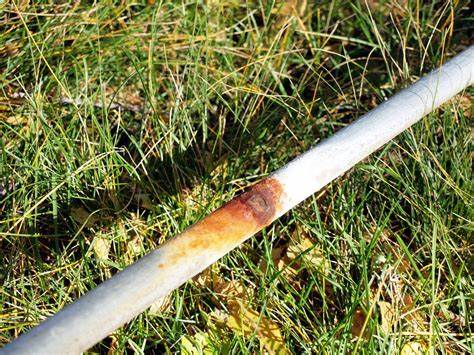Low: (153, 227, 258, 267)
Moderate: (156, 176, 287, 233)
